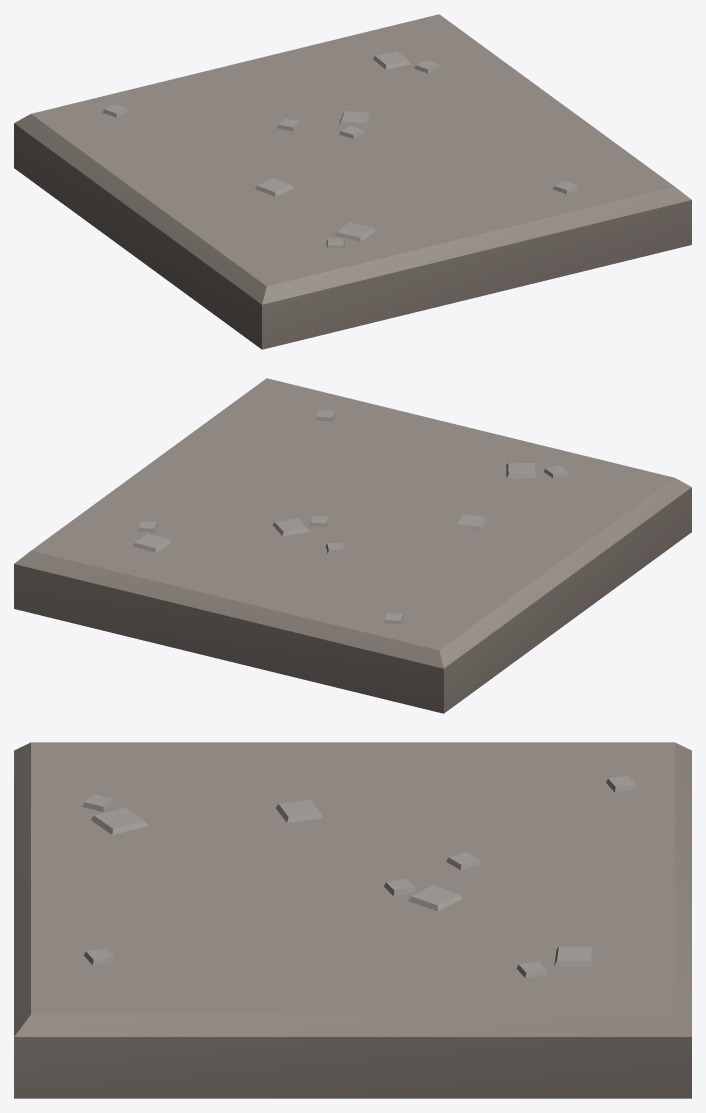
The model's file is floor_dirt.obj.
3 renders of one model, top to bottom at view 1: azimuth 30°, elevation 25°; view 2: azimuth 150°, elevation 25°; view 3: azimuth 270°, elevation 25°, orthographic. The views are drawn at different scales.
Parts seen in each view (by area): view 1: floor_dirt_Cube.647; view 2: floor_dirt_Cube.647; view 3: floor_dirt_Cube.647.
Boxes of the visible parts, left/top/right/bottom form: floor_dirt_Cube.647: left=14, top=14, right=691, bottom=349; floor_dirt_Cube.647: left=14, top=378, right=691, bottom=713; floor_dirt_Cube.647: left=14, top=742, right=691, bottom=1098.
Size of the model in its own units: 4 by 0.53 by 4.
Materials: 1 (1 with a texture image).
